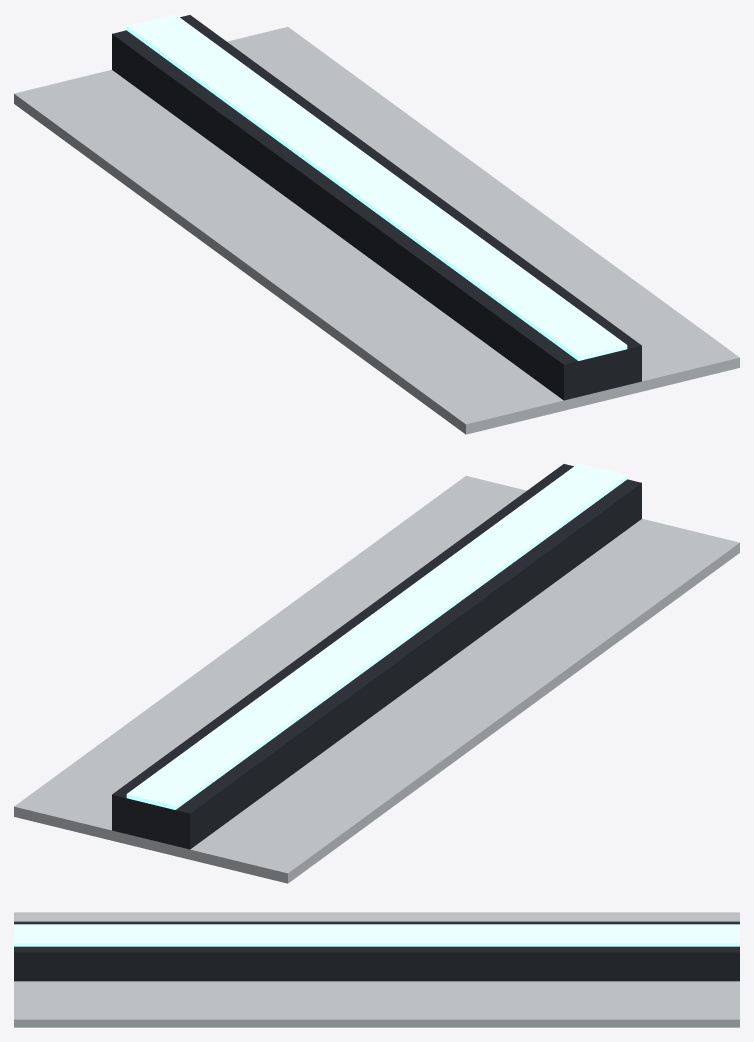
File: road_rail_x_straight_lod2.glb
3 renders of one model, top to bottom at view 1: azimuth 30°, elevation 25°; view 2: azimuth 150°, elevation 25°; view 3: azimuth 270°, elevation 25°, orthographic. The views are drawn at different scales.
Parts seen in each view (by area): view 1: body; view 2: body; view 3: body.
Part boxes in pixels (x1,y1,x2,y2): body: (14, 14, 739, 434); body: (14, 463, 739, 883); body: (14, 912, 739, 1027).
Bounding box in the file's own units: 2.8 × 0.49 × 8.
